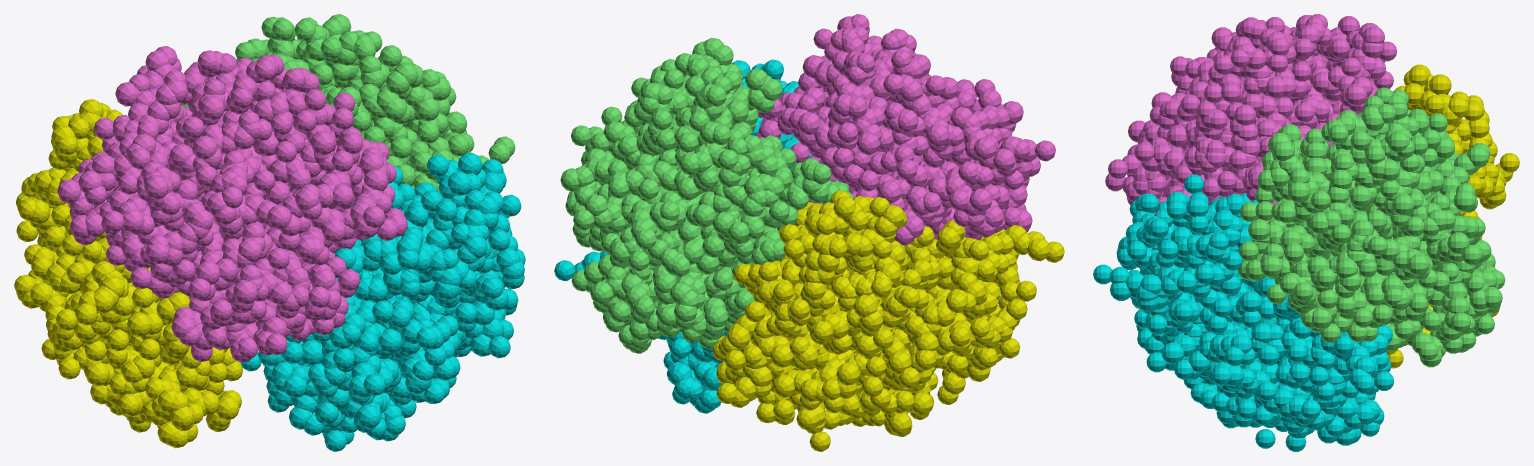
The model's file is 4hhb__spheres__chain.glb.
3 views of the same model, side by side, from view 1: azimuth 30°, elevation 25°; view 2: azimuth 150°, elevation 25°; view 3: azimuth 270°, elevation 25° (orthographic). The views are drawn at different scales.
Visible parts, largest first — view 1: Renderer Node; view 2: Renderer Node; view 3: Renderer Node.
Boxes of the visible parts, left/top/right/bottom form: Renderer Node: left=14, top=14, right=525, bottom=451; Renderer Node: left=554, top=14, right=1064, bottom=451; Renderer Node: left=1093, top=14, right=1519, bottom=451.
Bounding box in the file's own units: 73.32 × 60.06 × 63.83.
